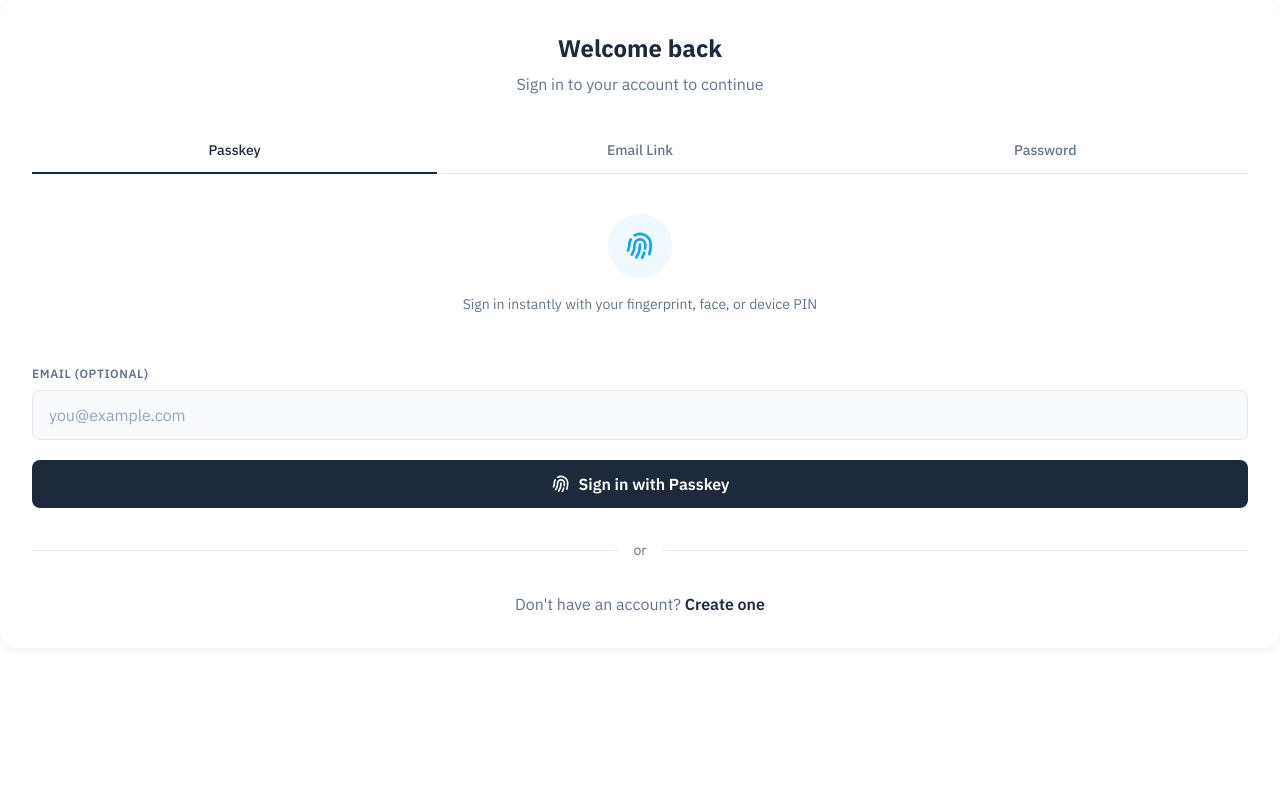
Test: LoginPage › magic link mode › should enable submit button when valid email is entered
Click the button "Email Link".
click(640, 151)  # box [437,128,843,174]
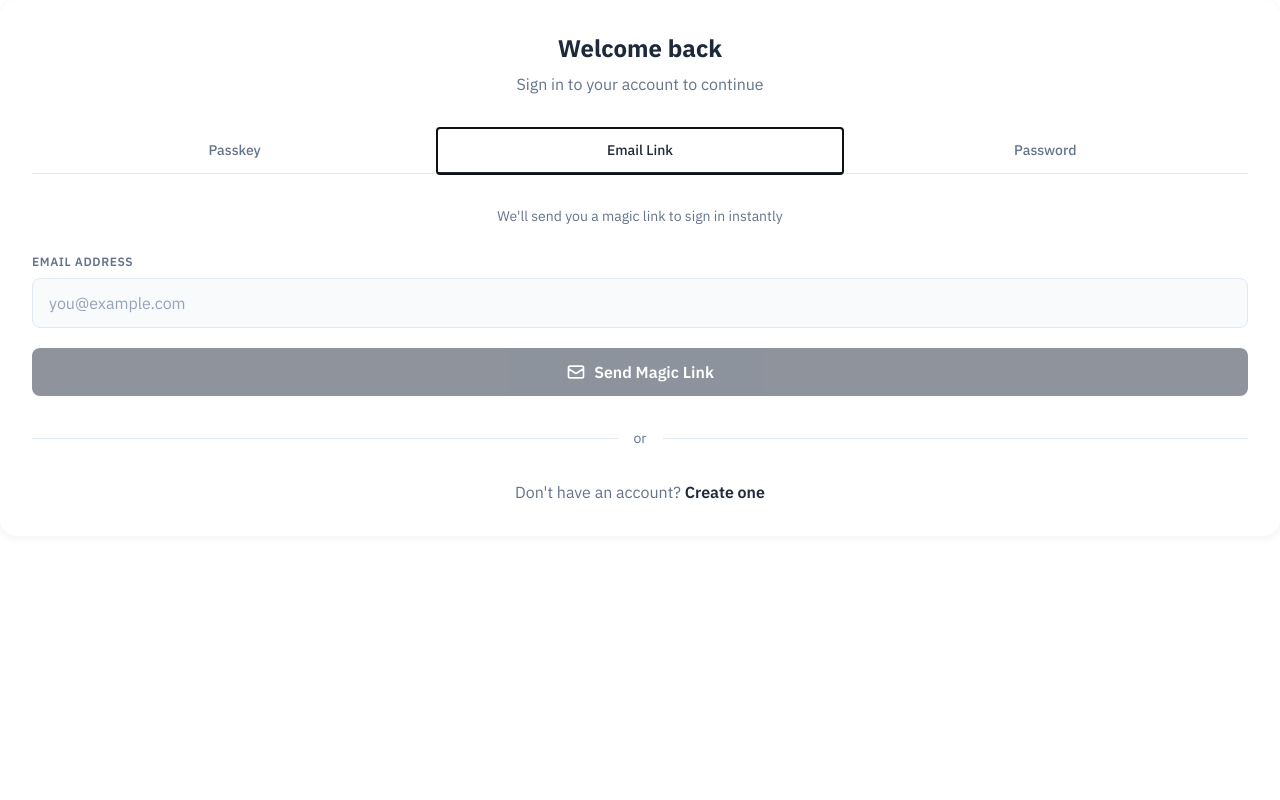
Type "test@example.com" into the field labelled "Email Address".
click(640, 303); type("test@example.com")  # box [32,278,1248,328]
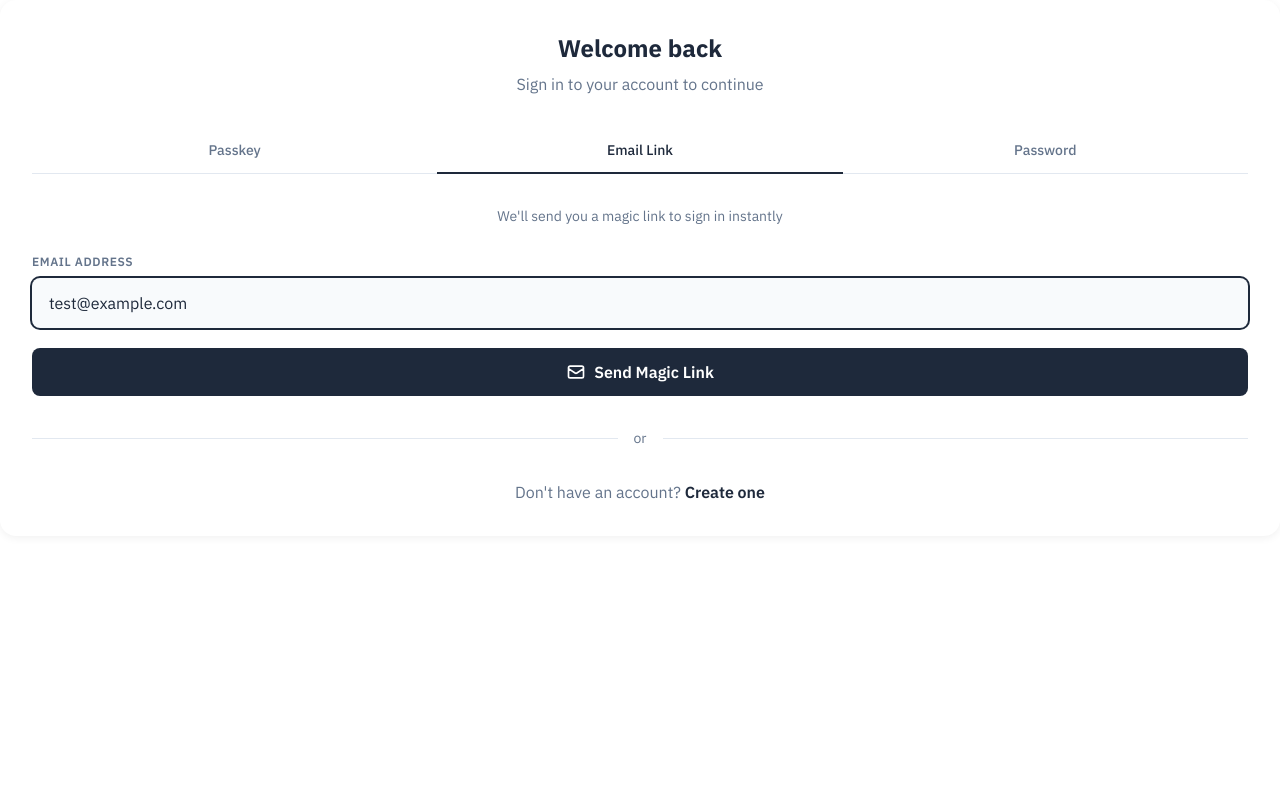
Expected: the button "Send Magic Link" is enabled, [32,348,1248,396]
